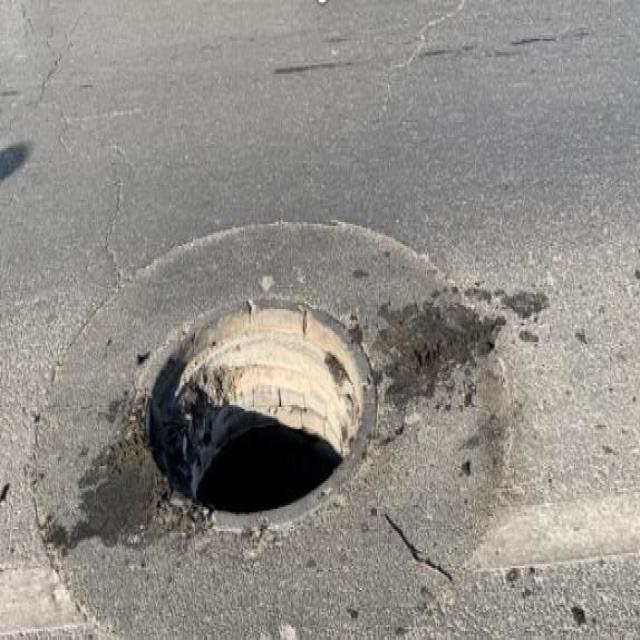manhole: (141, 299, 376, 528)
